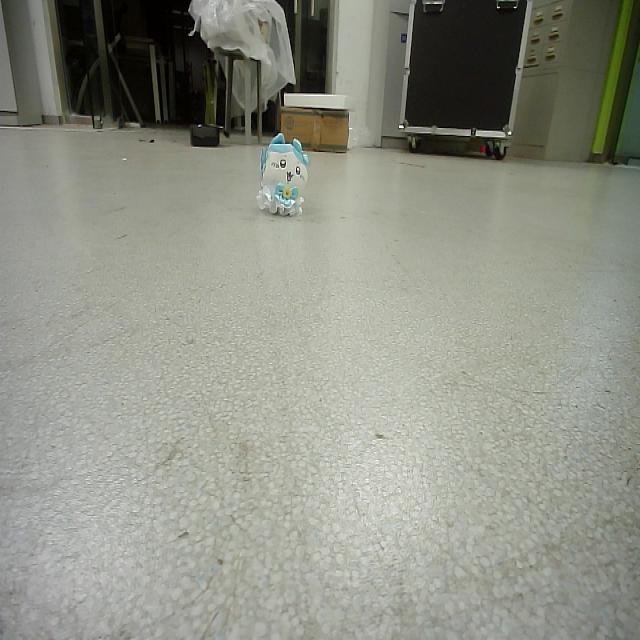xiaoba: (255, 130, 312, 222)
